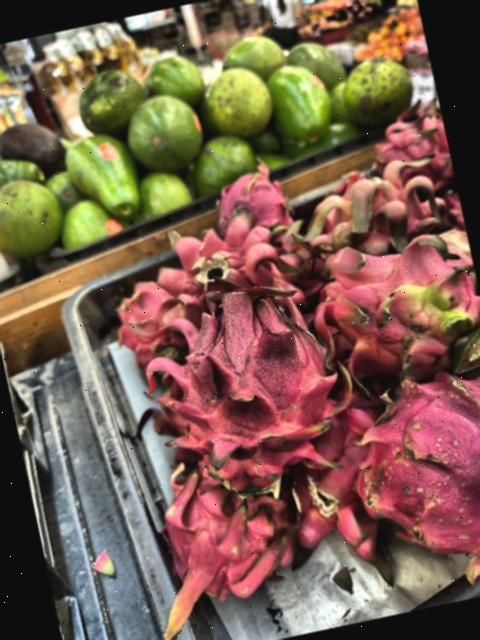buah-naga-belum-matang: (305, 190, 480, 396)
buah-naga-matang: (145, 266, 378, 500), (331, 348, 480, 583), (141, 434, 315, 624), (278, 387, 412, 566), (136, 202, 304, 336), (306, 152, 452, 267), (359, 104, 456, 199), (205, 153, 296, 241), (100, 270, 182, 363)
